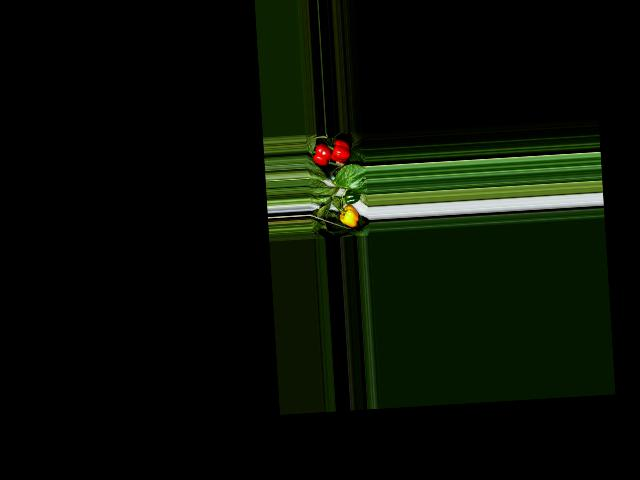bell_pepper: (338, 204, 361, 230)
